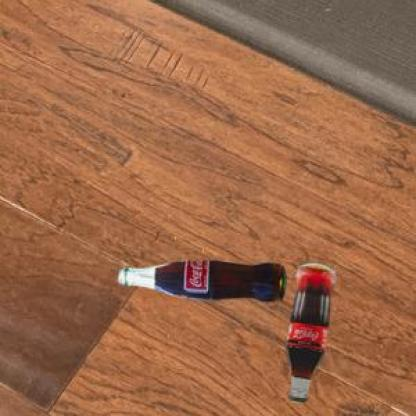bottle: (117, 259, 288, 305), (287, 262, 337, 405)
